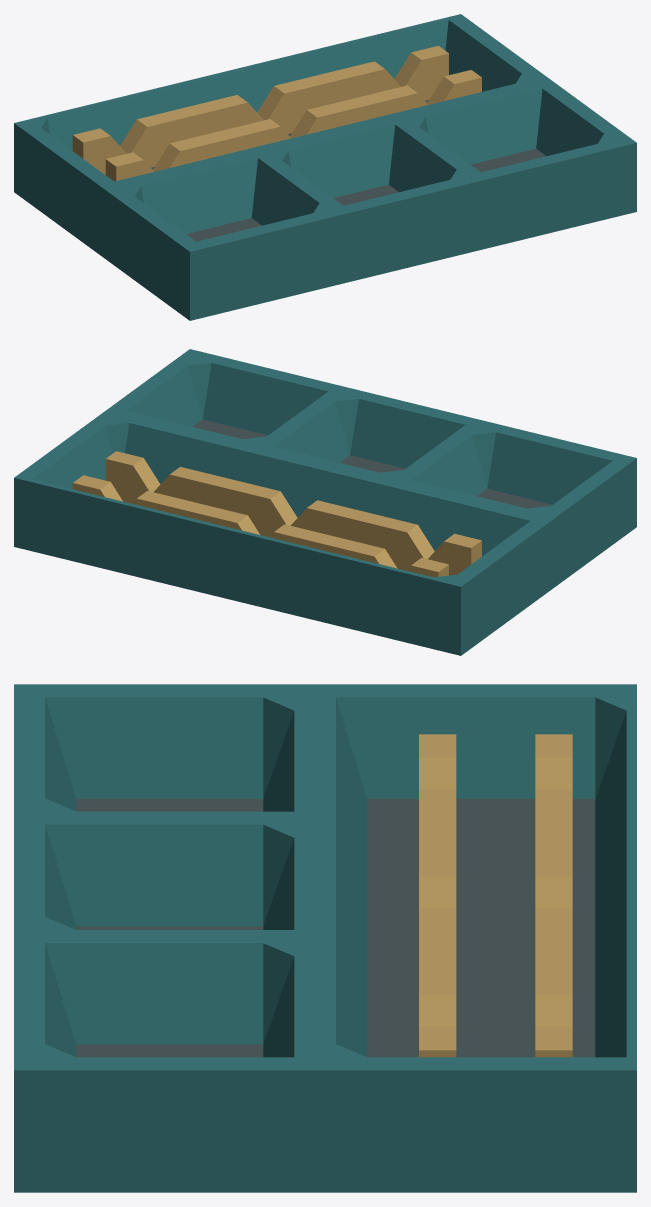
3 renders of one model, top to bottom at view 1: azimuth 30°, elevation 25°; view 2: azimuth 150°, elevation 25°; view 3: azimuth 270°, elevation 25°, orthographic. The views are drawn at different scales.
Visible parts, largest first — view 1: ContinuousThreePocketAndRearBasinBody, TransverseThreeNotchCradle_1, TransverseThreeNotchCradle_0; view 2: ContinuousThreePocketAndRearBasinBody, TransverseThreeNotchCradle_0, TransverseThreeNotchCradle_1; view 3: ContinuousThreePocketAndRearBasinBody, TransverseThreeNotchCradle_1, TransverseThreeNotchCradle_0.
Boxes of the visible parts, box(x1,y1,x2,y2) form: ContinuousThreePocketAndRearBasinBody: box(14, 14, 636, 320); TransverseThreeNotchCradle_1: box(72, 46, 448, 174); TransverseThreeNotchCradle_0: box(105, 70, 481, 181); ContinuousThreePocketAndRearBasinBody: box(14, 349, 636, 655); TransverseThreeNotchCradle_0: box(105, 451, 481, 575); TransverseThreeNotchCradle_1: box(72, 475, 448, 577); ContinuousThreePocketAndRearBasinBody: box(14, 684, 636, 1192); TransverseThreeNotchCradle_1: box(535, 734, 572, 1057); TransverseThreeNotchCradle_0: box(419, 734, 456, 1057).
Bounding box in the file's own units: 0.44 × 0.065 × 0.3.
